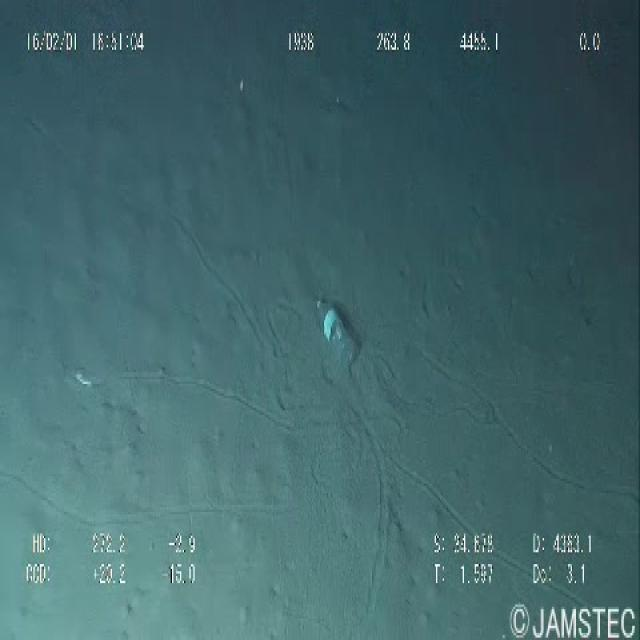plastic: (305, 287, 367, 372)
